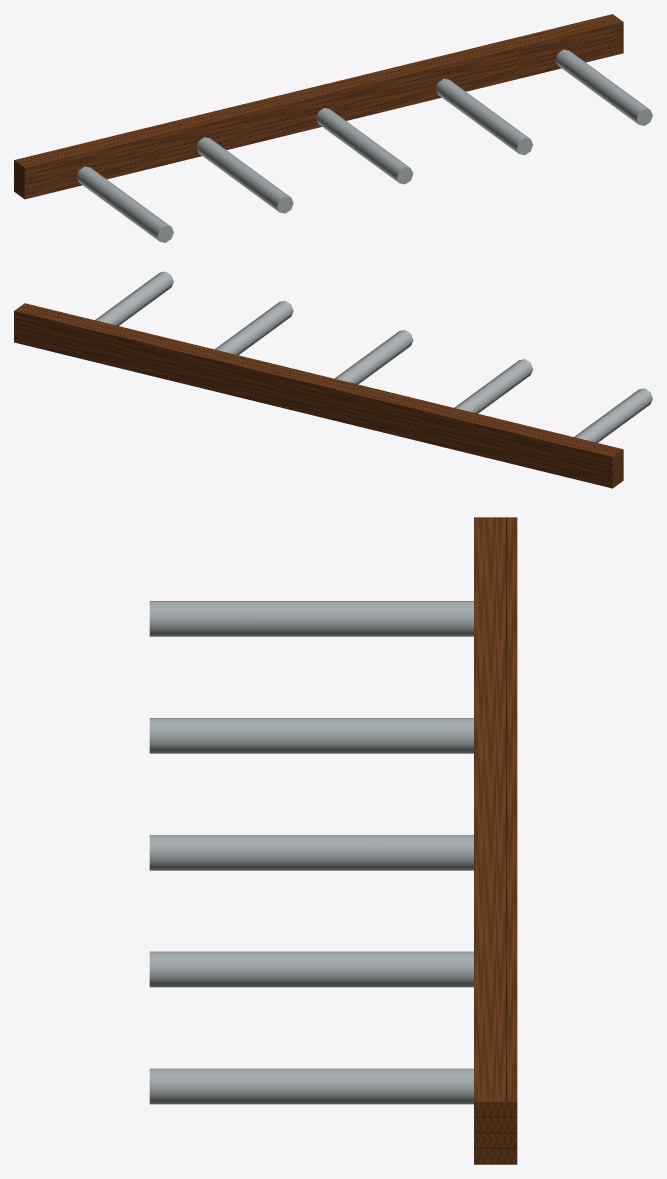
File: fortified-compound-expansion-gate-crossbar-rack-01dc29bb__27124.glb
3 views of the same model, one above another, from view 1: azimuth 30°, elevation 25°; view 2: azimuth 150°, elevation 25°; view 3: azimuth 270°, elevation 25° (orthographic). The views are drawn at different scales.
Parts seen in each view (by area): view 1: gate-crossbar-rack; view 2: gate-crossbar-rack; view 3: gate-crossbar-rack.
Boxes of the visible parts, <box> form: gate-crossbar-rack: <box>14,14,652,242</box>; gate-crossbar-rack: <box>14,271,652,488</box>; gate-crossbar-rack: <box>149,517,517,1164</box>.
Size of the model in its own units: 1.6 by 0.0801 by 0.425.
Materials: 2 (1 with a texture image).
